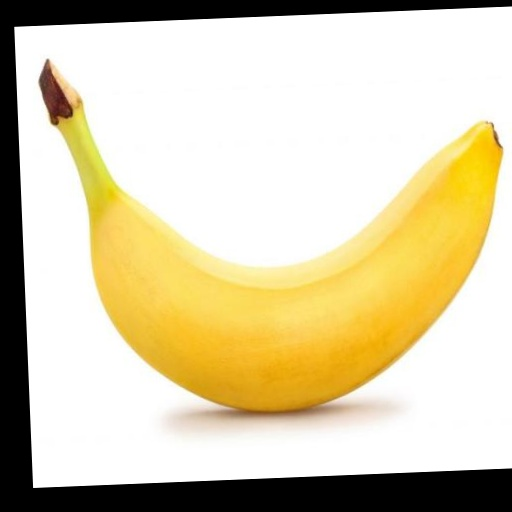fruit: (40, 61, 502, 411)
